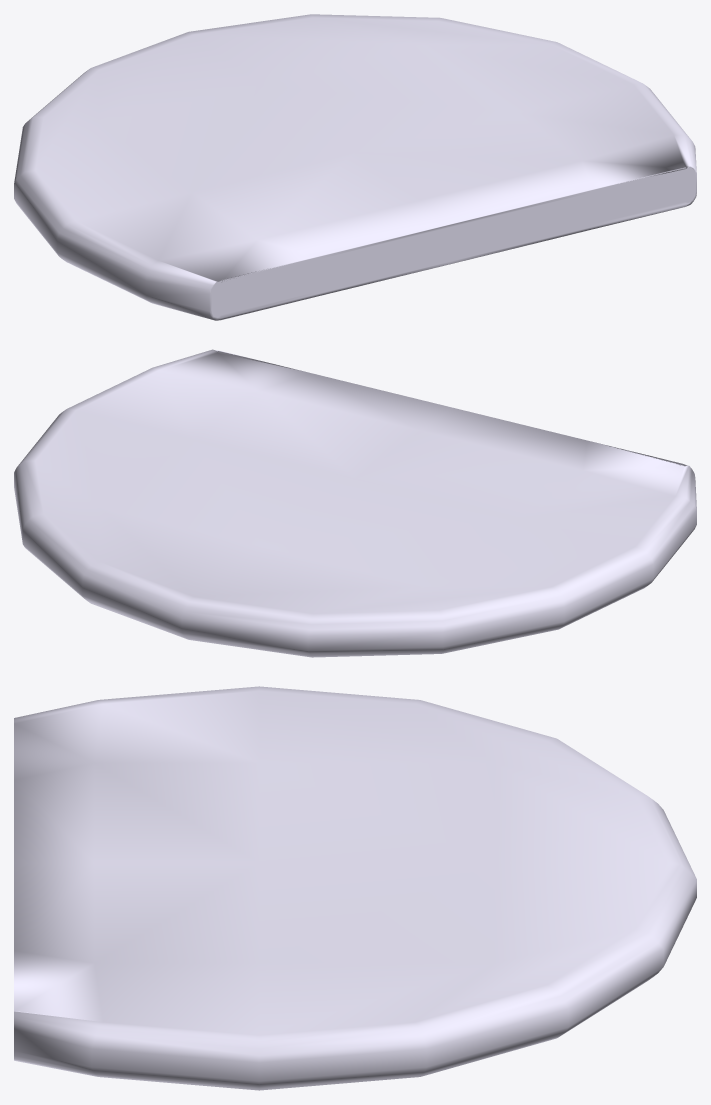
File: Arena.fbx
3 views of the same model, one above another, from view 1: azimuth 30°, elevation 25°; view 2: azimuth 150°, elevation 25°; view 3: azimuth 270°, elevation 25° (orthographic). The views are drawn at different scales.
Parts seen in each view (by area): view 1: Roundcube.001; view 2: Roundcube.001; view 3: Roundcube.001.
Boxes of the visible parts, <box> form: Roundcube.001: <box>14,14,696,320</box>; Roundcube.001: <box>14,349,696,657</box>; Roundcube.001: <box>14,686,696,1090</box>.
Size of the model in its own units: 1319 by 85.36 by 1037.
1 material, 1 textured.
